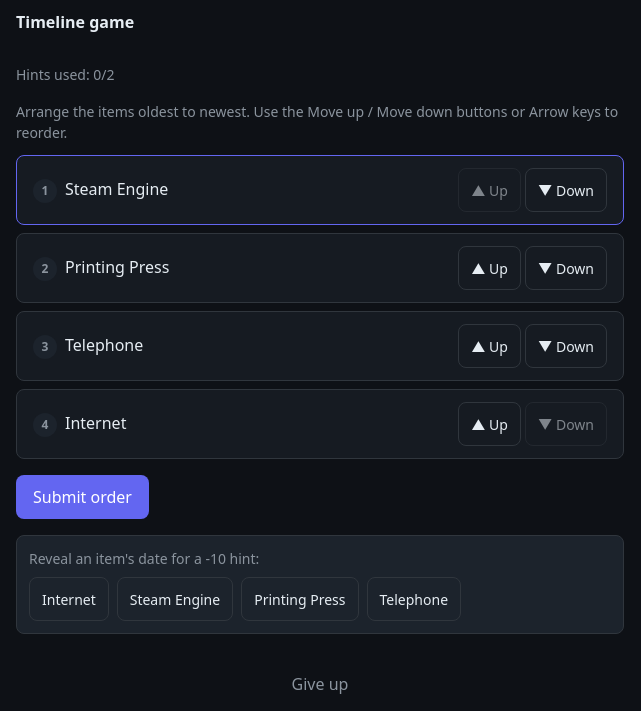
Test: TimelineGame — hints › reveals an item's date on hint use (-10)
The image size is (641, 711).
Click the button "Printing Press".
click(300, 599)  # box [241,577,359,621]
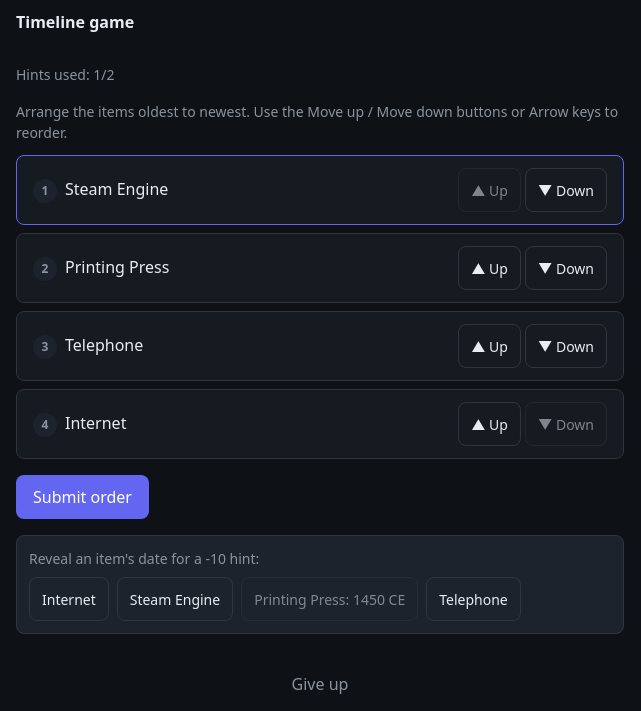
Expected: the button "Printing Press: 1450 CE" is shown, [241,577,418,621]
Expected: the text "Hints used: 1/2" is shown, [16,65,114,84]
